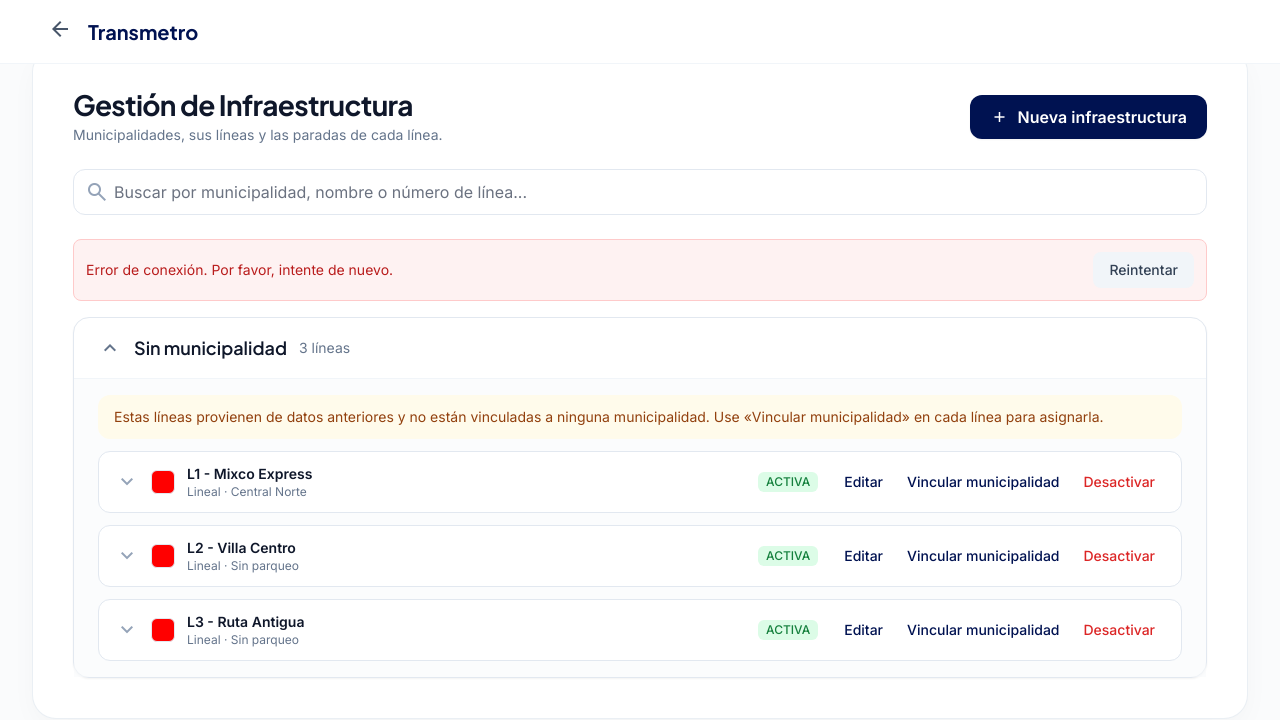
Test: InfrastructurePage states › shows the municipalidades load error with Reintentar
The image size is (1280, 720).
Expected: the message shows "Error de conexión. Por favor, intente de nuevo.", [86,261,393,278]
Click the button "Reintentar".
click(1144, 270)  # box [1094,252,1194,288]
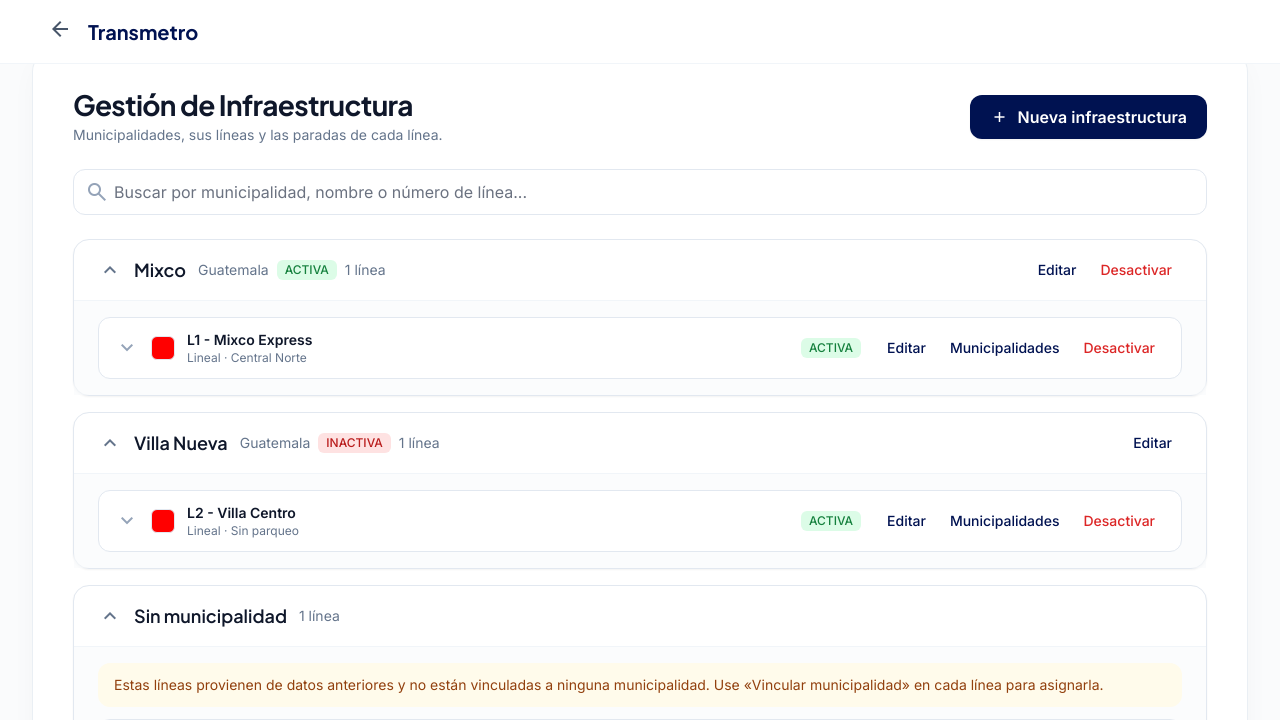
Now the element "Mixco" is shown, box [73,239,1207,396]
